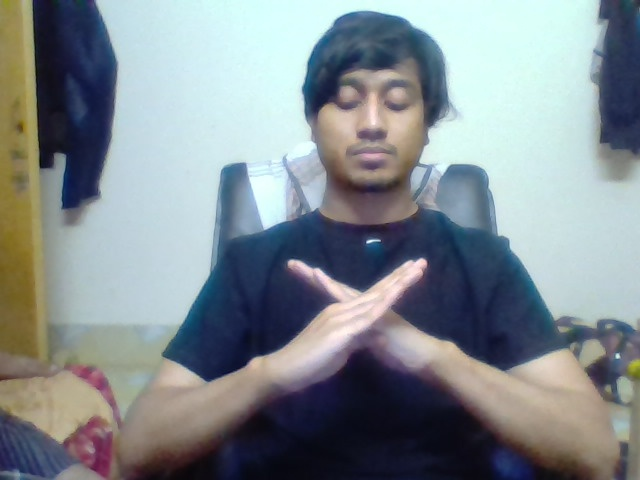X: (252, 248, 484, 380)
